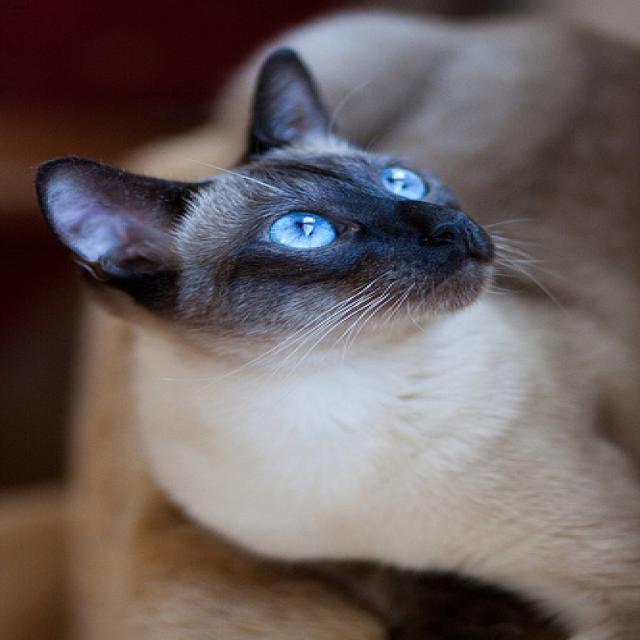Siamese: (33, 44, 502, 335)
